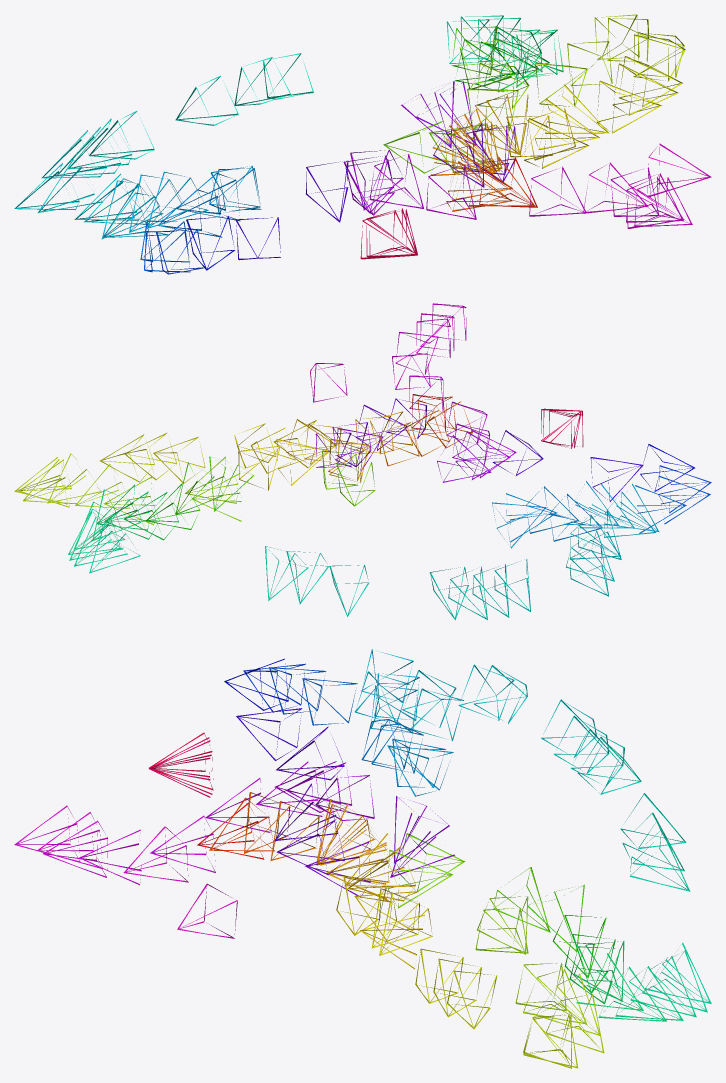
File: vggt.glb
3 renders of one model, top to bottom at view 1: azimuth 30°, elevation 25°; view 2: azimuth 150°, elevation 25°; view 3: azimuth 270°, elevation 25°, orthographic. The views are drawn at different scales.
Parts seen in each view (by area): view 1: world; view 2: world; view 3: world.
Boxes of the visible parts, x1,y1,x2,y2 form: world: [14, 14, 711, 274]; world: [14, 303, 711, 620]; world: [14, 649, 711, 1068].
Size of the model in its own units: 2.14 by 0.3697 by 1.82.
